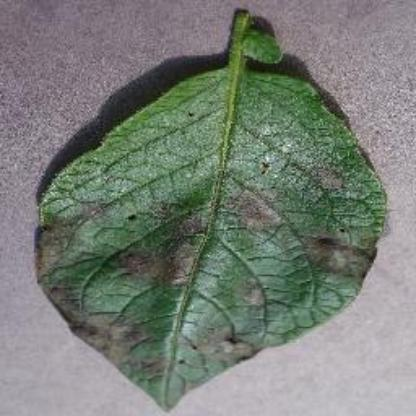Late-Blight: (34, 11, 390, 412)
